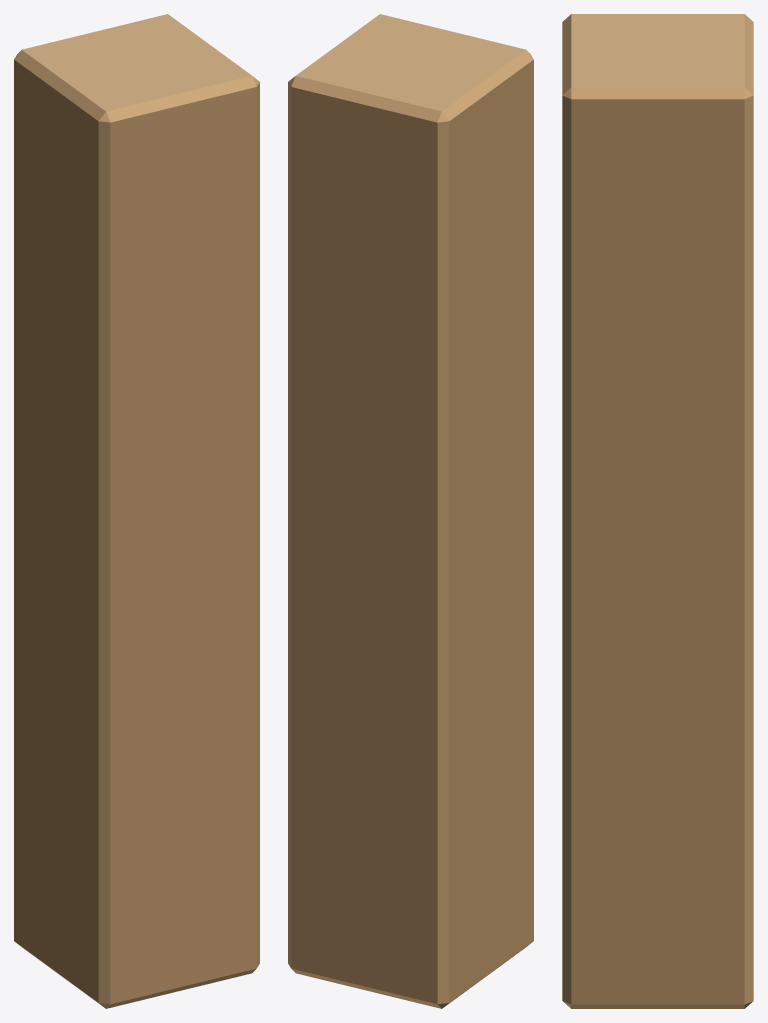
The model's file is Lumber_Pillar.fbx.
3 views of the same model, side by side, from view 1: azimuth 30°, elevation 25°; view 2: azimuth 150°, elevation 25°; view 3: azimuth 270°, elevation 25° (orthographic). The views are drawn at different scales.
Parts seen in each view (by area): view 1: Lumber_Pillar; view 2: Lumber_Pillar; view 3: Lumber_Pillar.
Boxes of the visible parts, box(x1,y1,x2,y2) form: Lumber_Pillar: box(14, 14, 259, 1008); Lumber_Pillar: box(288, 14, 533, 1008); Lumber_Pillar: box(562, 14, 753, 1008).
Size of the model in its own units: 32 by 170 by 32.
